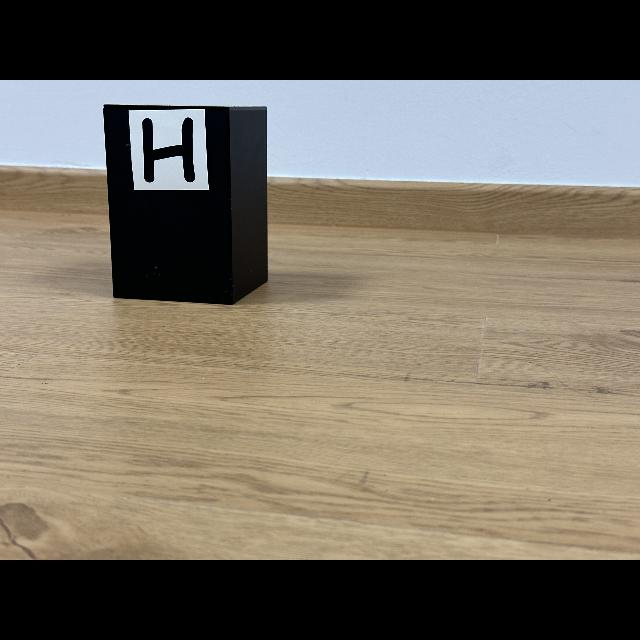H: (142, 118, 195, 182)
